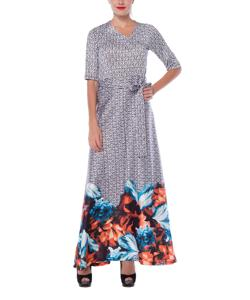C_dress: (63, 18, 184, 270)
C_sandals: (72, 260, 146, 290)
